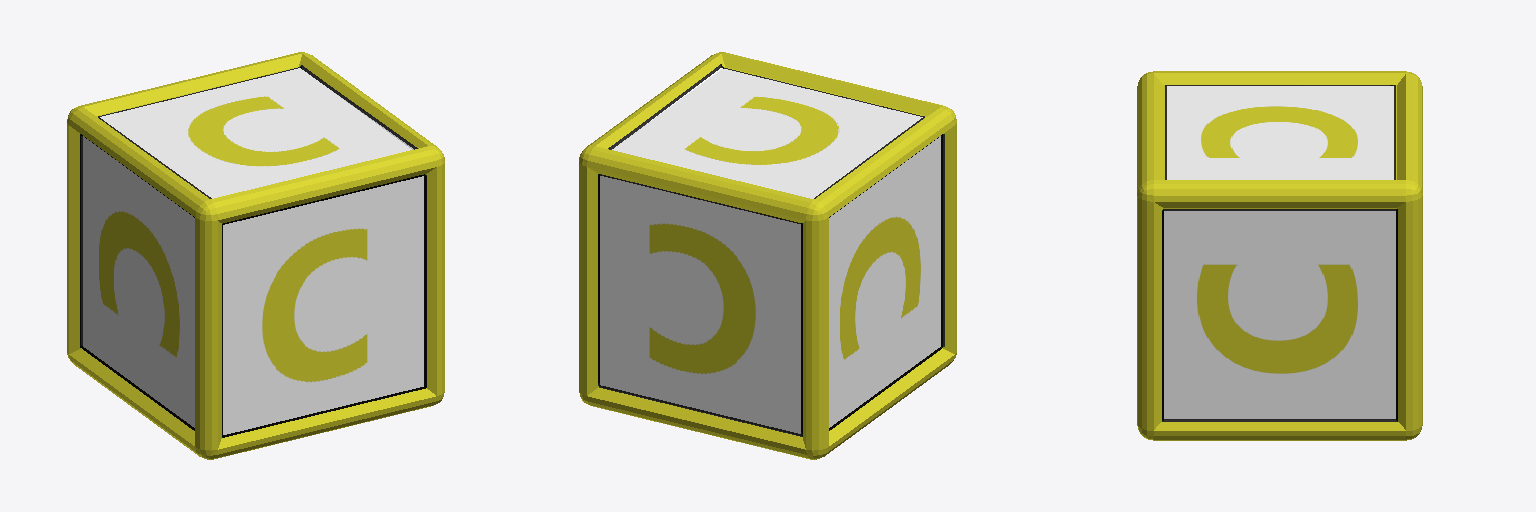
The picture shows the model from 3 angles: view 1: azimuth 30°, elevation 25°; view 2: azimuth 150°, elevation 25°; view 3: azimuth 270°, elevation 25°; orthographic projection.
Parts seen in each view (by area): view 1: Cube.002; view 2: Cube.002; view 3: Cube.002.
Part boxes in pixels (bbox=[...]): Cube.002: bbox=[67, 52, 444, 459]; Cube.002: bbox=[579, 52, 956, 459]; Cube.002: bbox=[1137, 71, 1422, 440].
Size of the model in its own units: 2 by 2 by 2.
Materials: 1 (1 with a texture image).